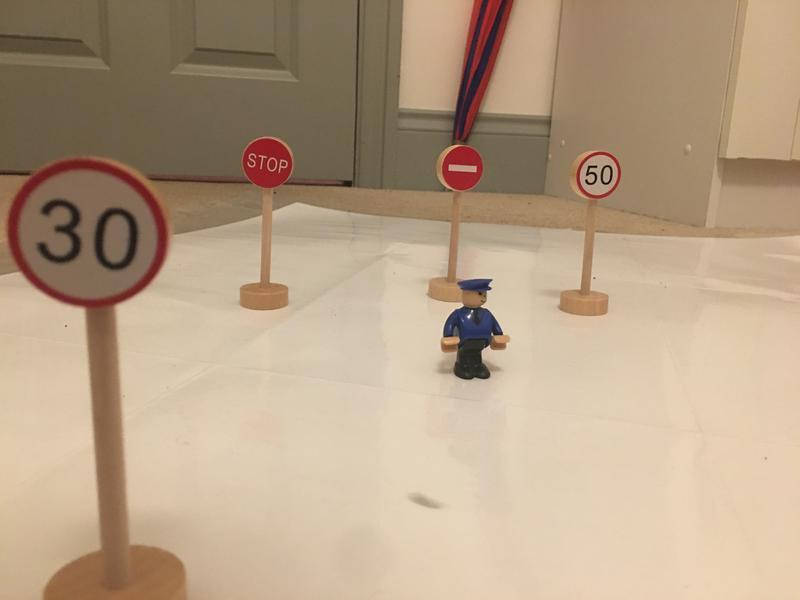Traffic_Sign_30: (8, 158, 166, 308)
Traffic_Sign_50: (576, 151, 620, 200)
Traffic_Sign_No_Entry: (443, 145, 482, 193)
Traffic_Sign_Stop: (242, 136, 293, 188)
